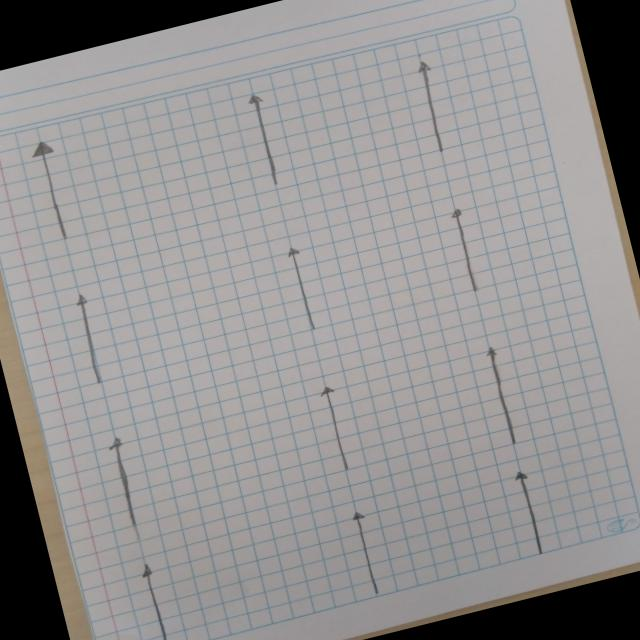arrow_line_up: (56, 139, 132, 257), (100, 302, 167, 412), (306, 504, 376, 608), (126, 436, 198, 534), (242, 106, 304, 217), (486, 439, 548, 547), (392, 73, 454, 176), (173, 544, 239, 640), (248, 254, 312, 349), (433, 342, 497, 432), (267, 404, 330, 492), (421, 213, 471, 280)
